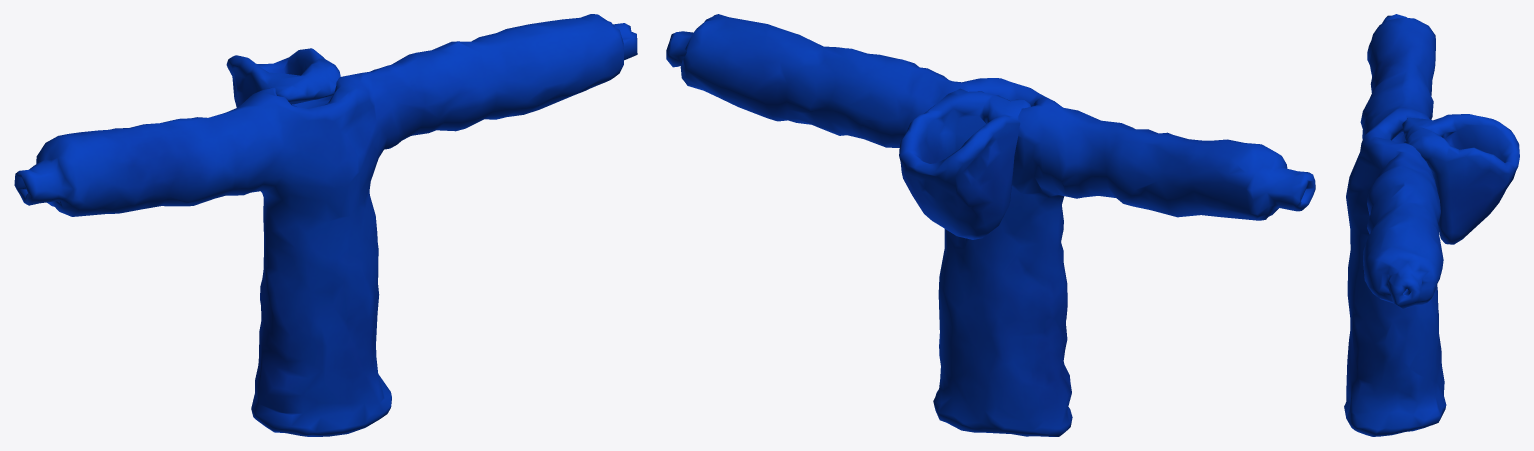
The model's file is hoodie down blue.glb.
3 views of the same model, side by side, from view 1: azimuth 30°, elevation 25°; view 2: azimuth 150°, elevation 25°; view 3: azimuth 270°, elevation 25° (orthographic). The views are drawn at different scales.
Parts seen in each view (by area): view 1: shirt_hoodie_down_blue.001; view 2: shirt_hoodie_down_blue.001; view 3: shirt_hoodie_down_blue.001.
Part boxes in pixels (x1,y1,x2,y2): shirt_hoodie_down_blue.001: (14,14,637,436); shirt_hoodie_down_blue.001: (666,14,1315,436); shirt_hoodie_down_blue.001: (1344,14,1519,436).
Size of the model in its own units: 0.706 by 0.3675 by 0.1976.
Materials: 2 (2 with a texture image).
